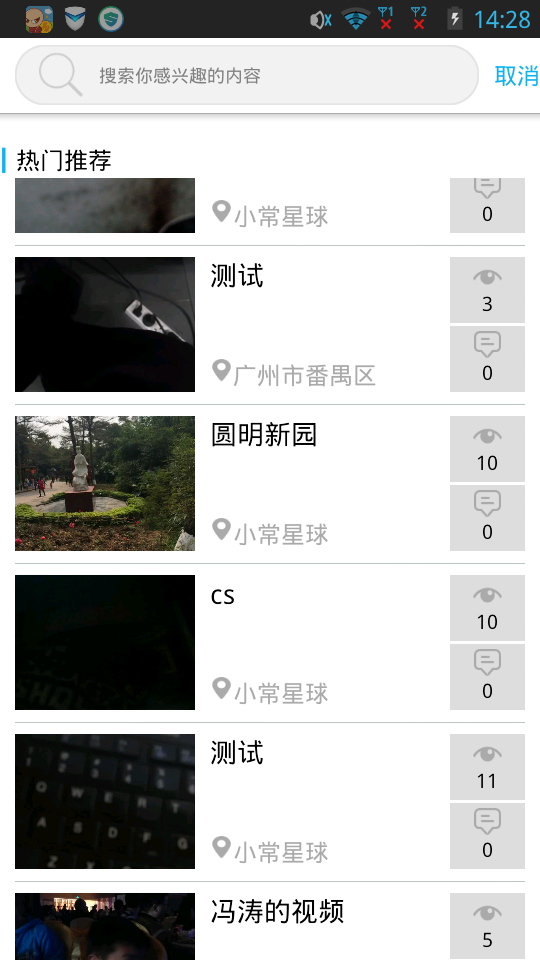imgbutton: (32, 49, 87, 100)
textview: (10, 42, 484, 109)
